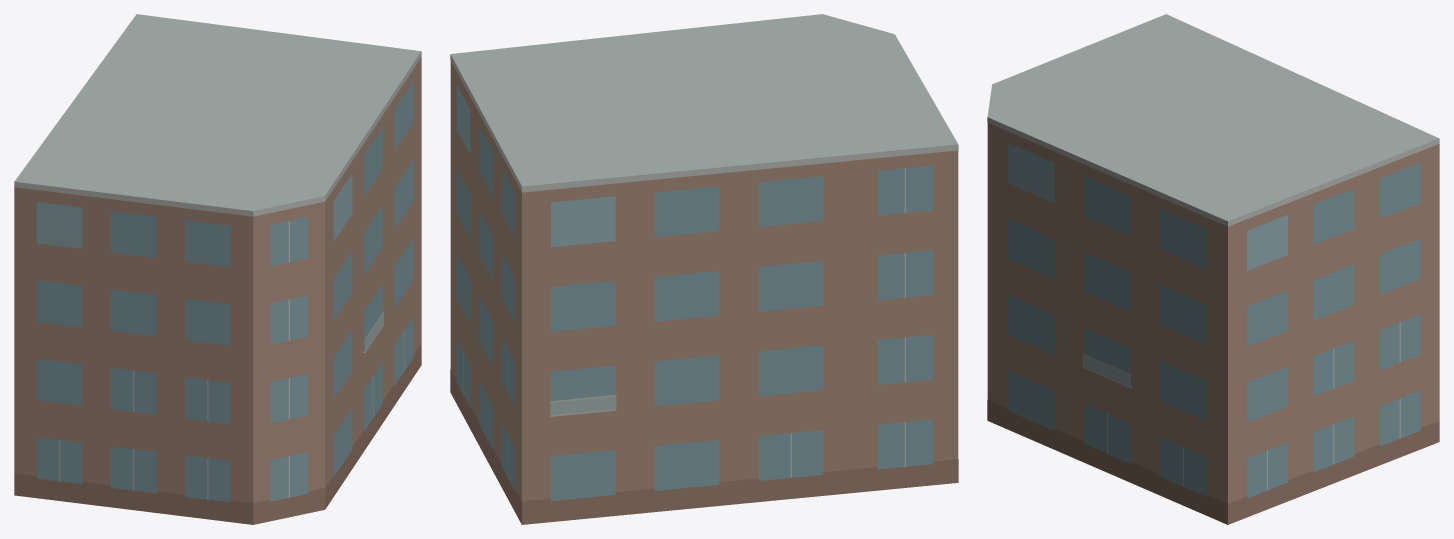
Rendered from survey-upis-32834747.glb.
The picture shows the model from 3 angles, left to right: view 1: azimuth 30°, elevation 25°; view 2: azimuth 150°, elevation 25°; view 3: azimuth 270°, elevation 25°; orthographic projection. The views are drawn at different scales.
Parts seen in each view (by area): view 1: survey-upis-32834747.tmp; view 2: survey-upis-32834747.tmp; view 3: survey-upis-32834747.tmp.
Boxes of the visible parts, bbox=[...] form: survey-upis-32834747.tmp: bbox=[14, 14, 421, 524]; survey-upis-32834747.tmp: bbox=[450, 14, 958, 524]; survey-upis-32834747.tmp: bbox=[987, 14, 1439, 524].
Bounding box in the file's own units: 20.22 × 13.8 × 18.63.
